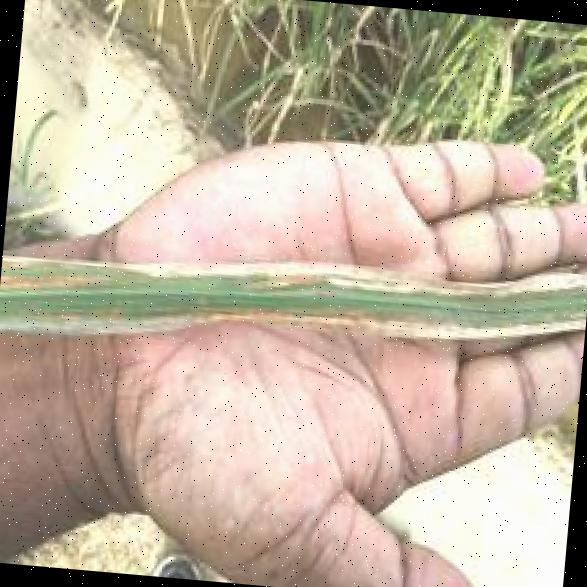Bacteria_Leaf_Blight: (12, 222, 574, 341)
